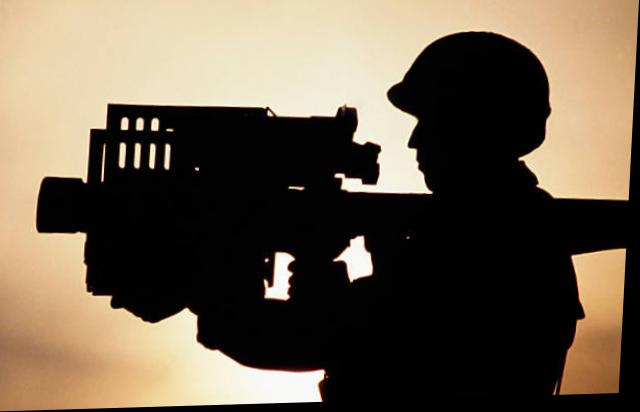other: (341, 37, 588, 399)
